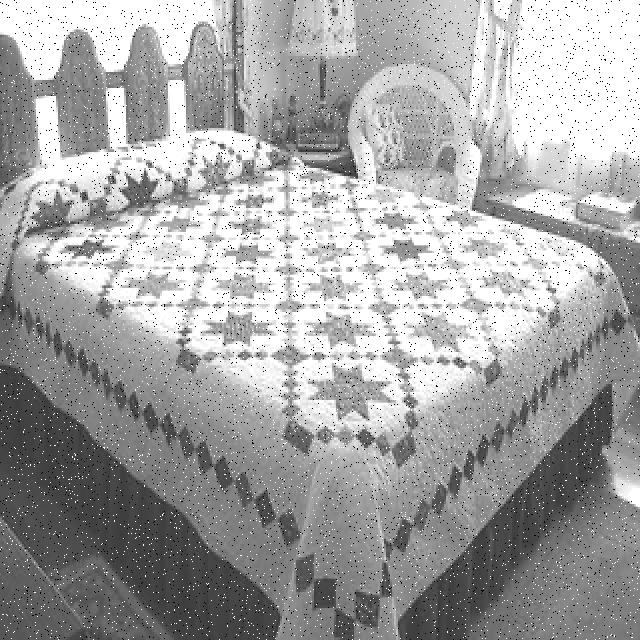bed: (1, 128, 617, 614)
